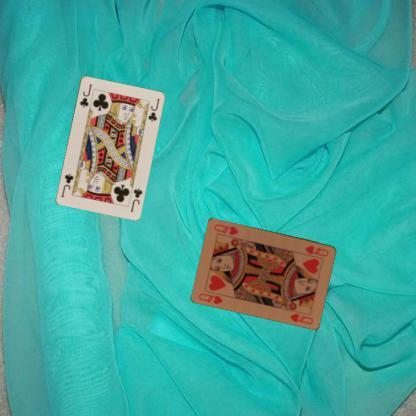Jc: (77, 80, 93, 108), (128, 186, 144, 212)
Qh: (303, 242, 330, 258), (197, 290, 224, 306)
